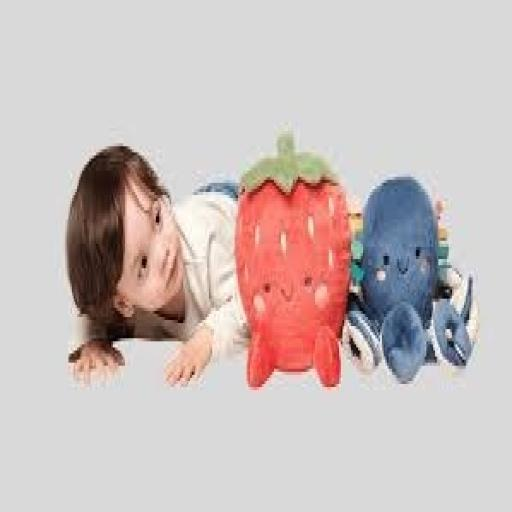baby: (67, 147, 248, 383)
